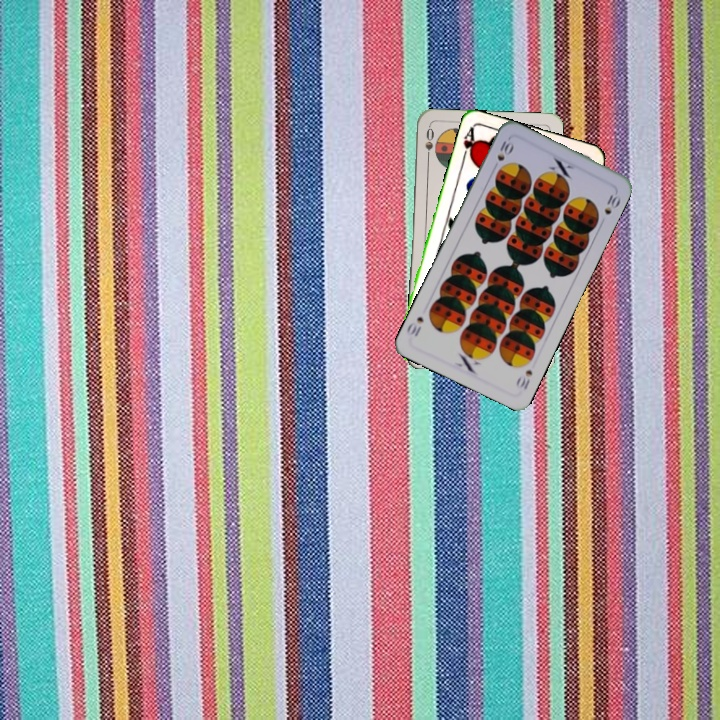HA: (458, 124, 480, 164)
S10: (489, 135, 516, 173), (512, 366, 535, 393)
SO: (421, 123, 437, 164)
